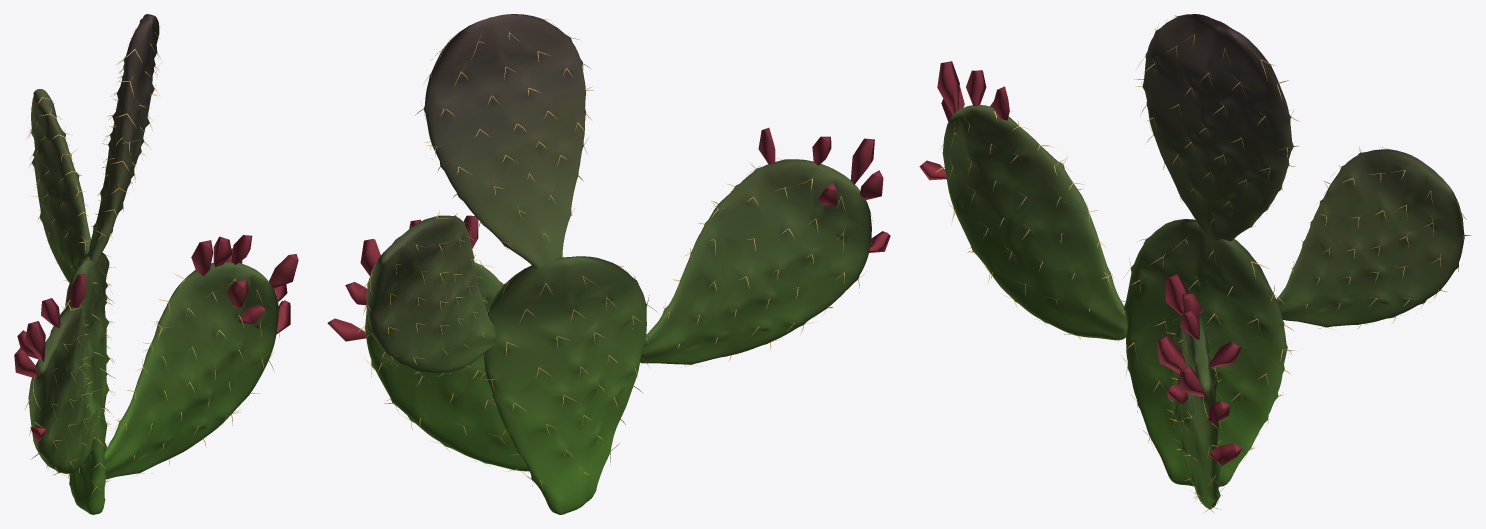
Rendered from Cactus2.fbx.
3 views of the same model, side by side, from view 1: azimuth 30°, elevation 25°; view 2: azimuth 150°, elevation 25°; view 3: azimuth 270°, elevation 25° (orthographic). The views are drawn at different scales.
Parts seen in each view (by area): view 1: Cactus; view 2: Cactus; view 3: Cactus.
Boxes of the visible parts, x1,y1,x2,y2 form: Cactus: (14, 14, 298, 514); Cactus: (327, 14, 890, 514); Cactus: (919, 14, 1471, 512).
Size of the model in its own units: 39.96 by 43.57 by 43.84.
